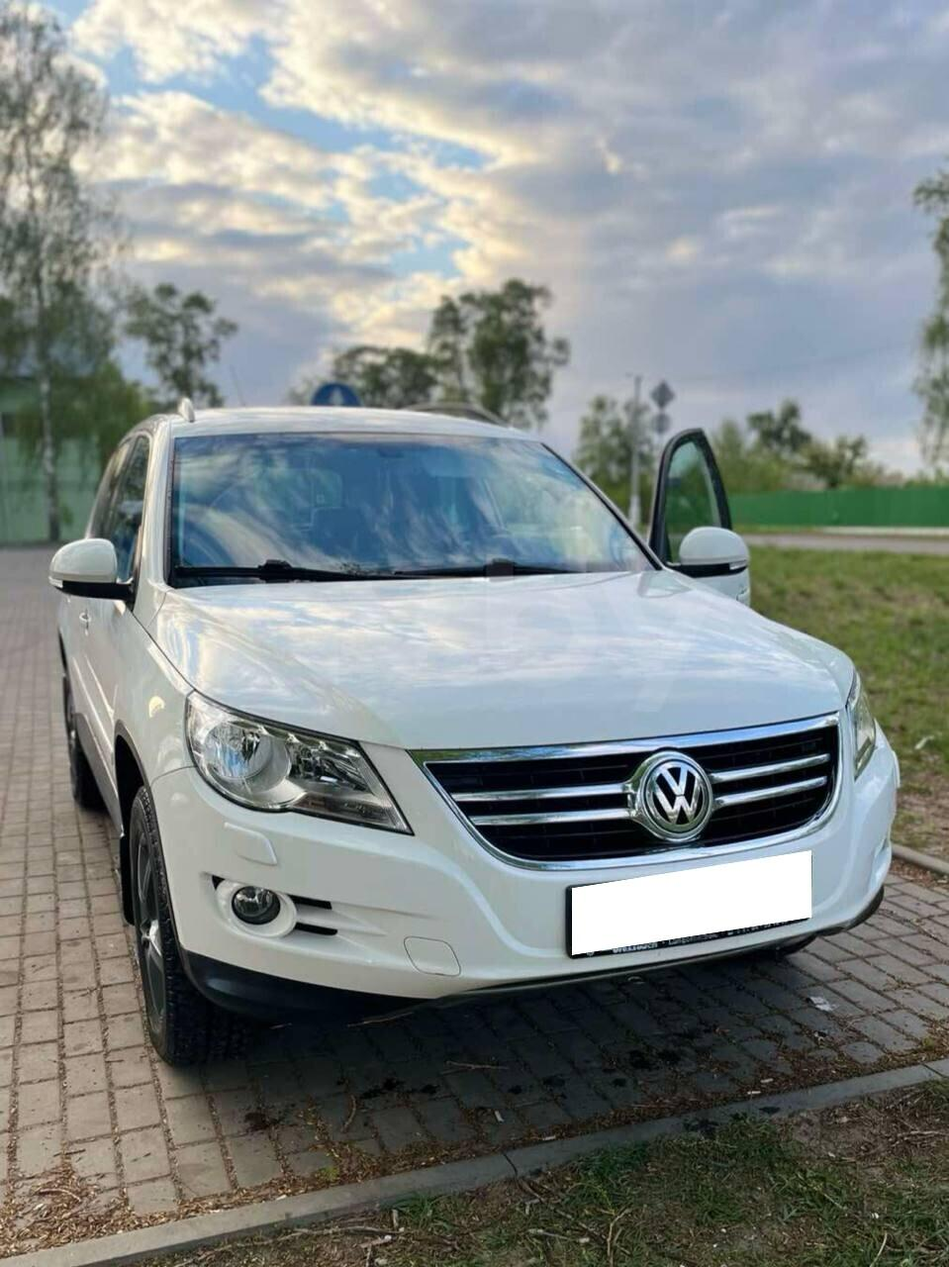Tiguan_2007-2011: (48, 398, 905, 1082)
